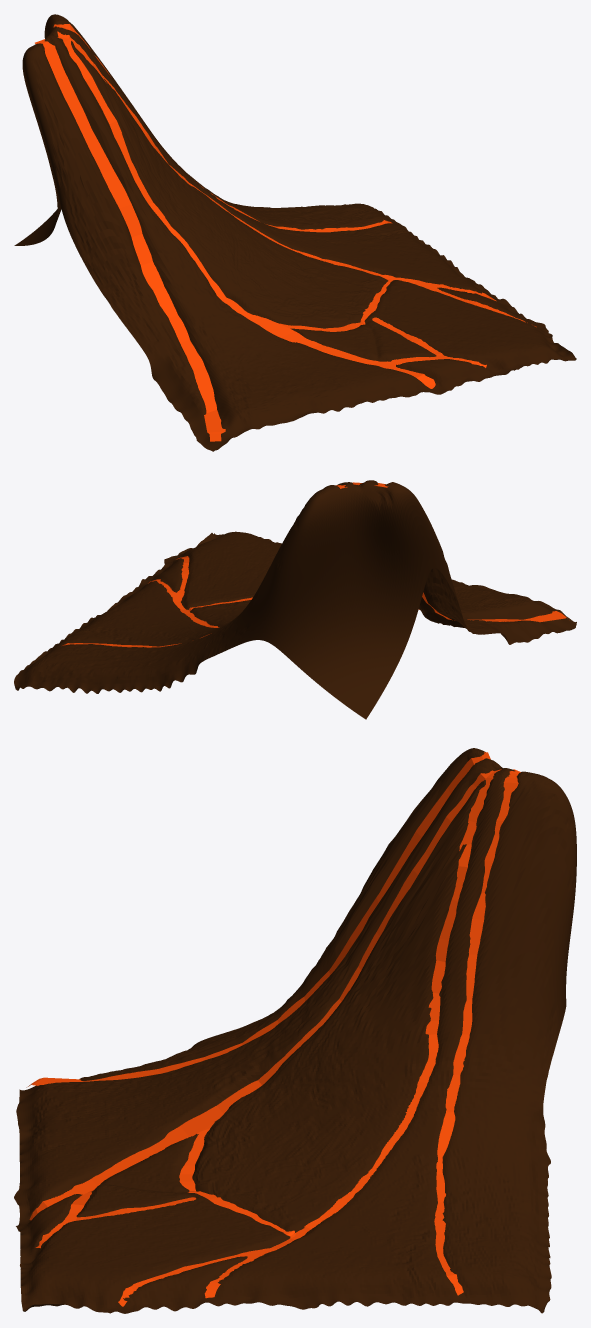
The model's file is VolcanoSonHal.fbx.
3 renders of one model, top to bottom at view 1: azimuth 30°, elevation 25°; view 2: azimuth 150°, elevation 25°; view 3: azimuth 270°, elevation 25°, orthographic. The views are drawn at different scales.
Parts seen in each view (by area): view 1: Plane, Lav1, Lav1.001, Lav1.002, Lav1.007, Lav1.003; view 2: Plane, Lav1, Lav1.002; view 3: Plane, Lav1.001, Lav1.003, Lav1.002, Lav1, Lav1.007.
Part boxes in pixels (x1,y1,x2,y2): Plane: (14, 14, 576, 451); Lav1: (35, 39, 225, 441); Lav1.001: (57, 36, 435, 388); Lav1.002: (57, 31, 439, 290); Lav1.007: (277, 278, 392, 331); Lav1.003: (53, 24, 392, 232); Plane: (14, 480, 576, 719); Lav1: (374, 483, 567, 622); Lav1.002: (169, 482, 358, 627); Plane: (14, 748, 576, 1313); Lav1.001: (29, 770, 493, 1220); Lav1.003: (434, 769, 520, 1295); Lav1.002: (245, 769, 501, 1259); Lav1: (26, 752, 490, 1087); Lav1.007: (179, 1122, 295, 1237).
Size of the model in its own units: 11638 by 7944 by 11647.
